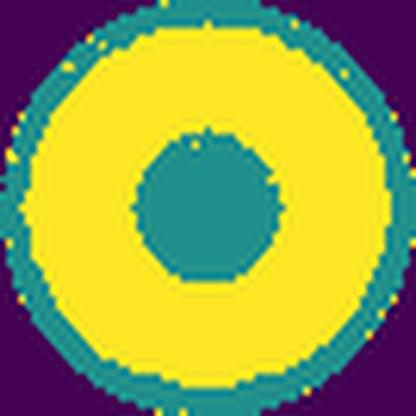Donut: (22, 18, 404, 395)
